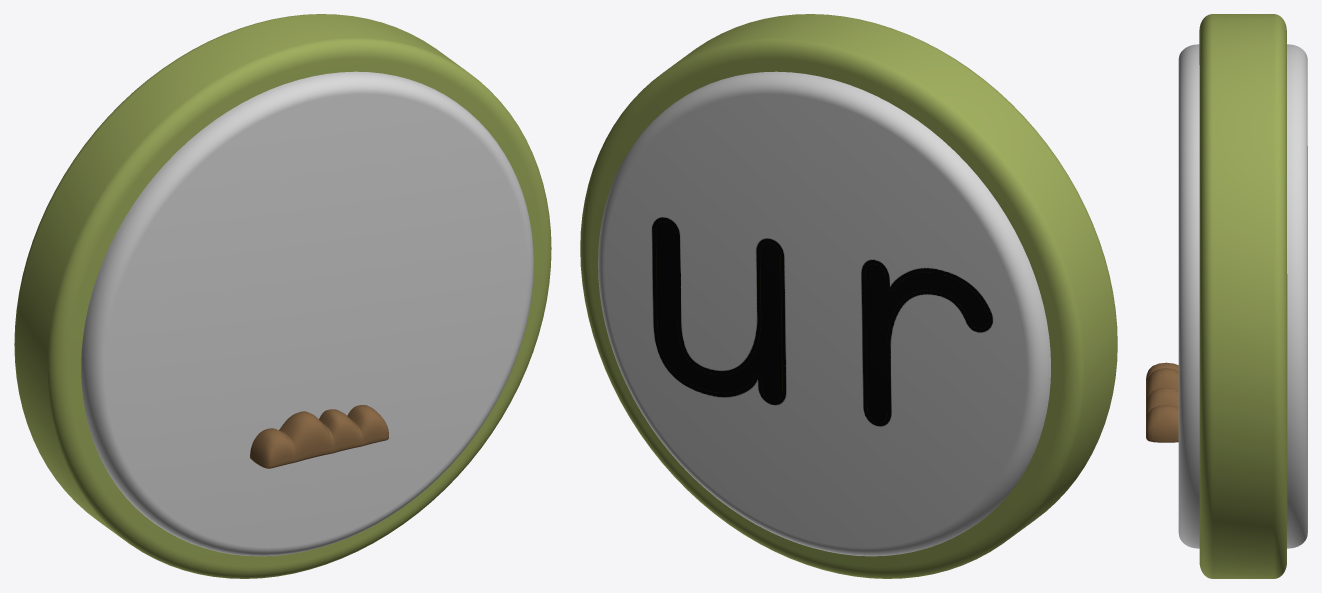
The model's file is turf.gltf.
3 renders of one model, left to right at view 1: azimuth 30°, elevation 25°; view 2: azimuth 150°, elevation 25°; view 3: azimuth 270°, elevation 25°, orthographic. The views are drawn at different scales.
Parts seen in each view (by area): view 1: Cylinder_2, Cylinder.001, Cube; view 2: Cylinder_2, Cylinder.001; view 3: Cylinder.001, Cylinder_2, Cube.
Part boxes in pixels (x1,y1,x2,y2): Cylinder_2: (81, 71, 533, 556); Cylinder.001: (14, 14, 551, 578); Cube: (250, 405, 388, 468); Cylinder_2: (598, 71, 1050, 556); Cylinder.001: (580, 14, 1117, 578); Cylinder.001: (1199, 14, 1287, 578); Cylinder_2: (1178, 44, 1307, 548); Cube: (1146, 362, 1178, 442).
Bounding box in the file's own units: 2.56 × 2.56 × 0.7326.
4 materials, 1 textured.
